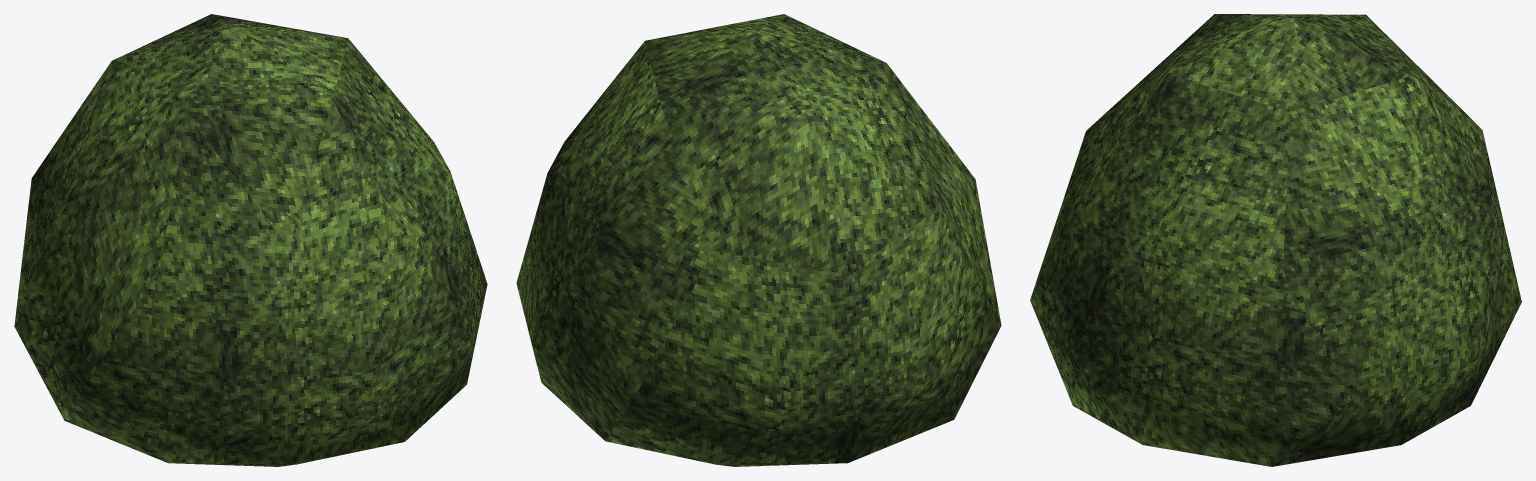
File: cali.fbx
3 renders of one model, left to right at view 1: azimuth 30°, elevation 25°; view 2: azimuth 150°, elevation 25°; view 3: azimuth 270°, elevation 25°, orthographic. The views are drawn at different scales.
Parts seen in each view (by area): view 1: cali; view 2: cali; view 3: cali.
Part boxes in pixels (x1,y1,x2,y2): cali: (14,14,487,466); cali: (516,14,1001,466); cali: (1030,14,1521,466).
Size of the model in its own units: 190 by 181 by 200.
